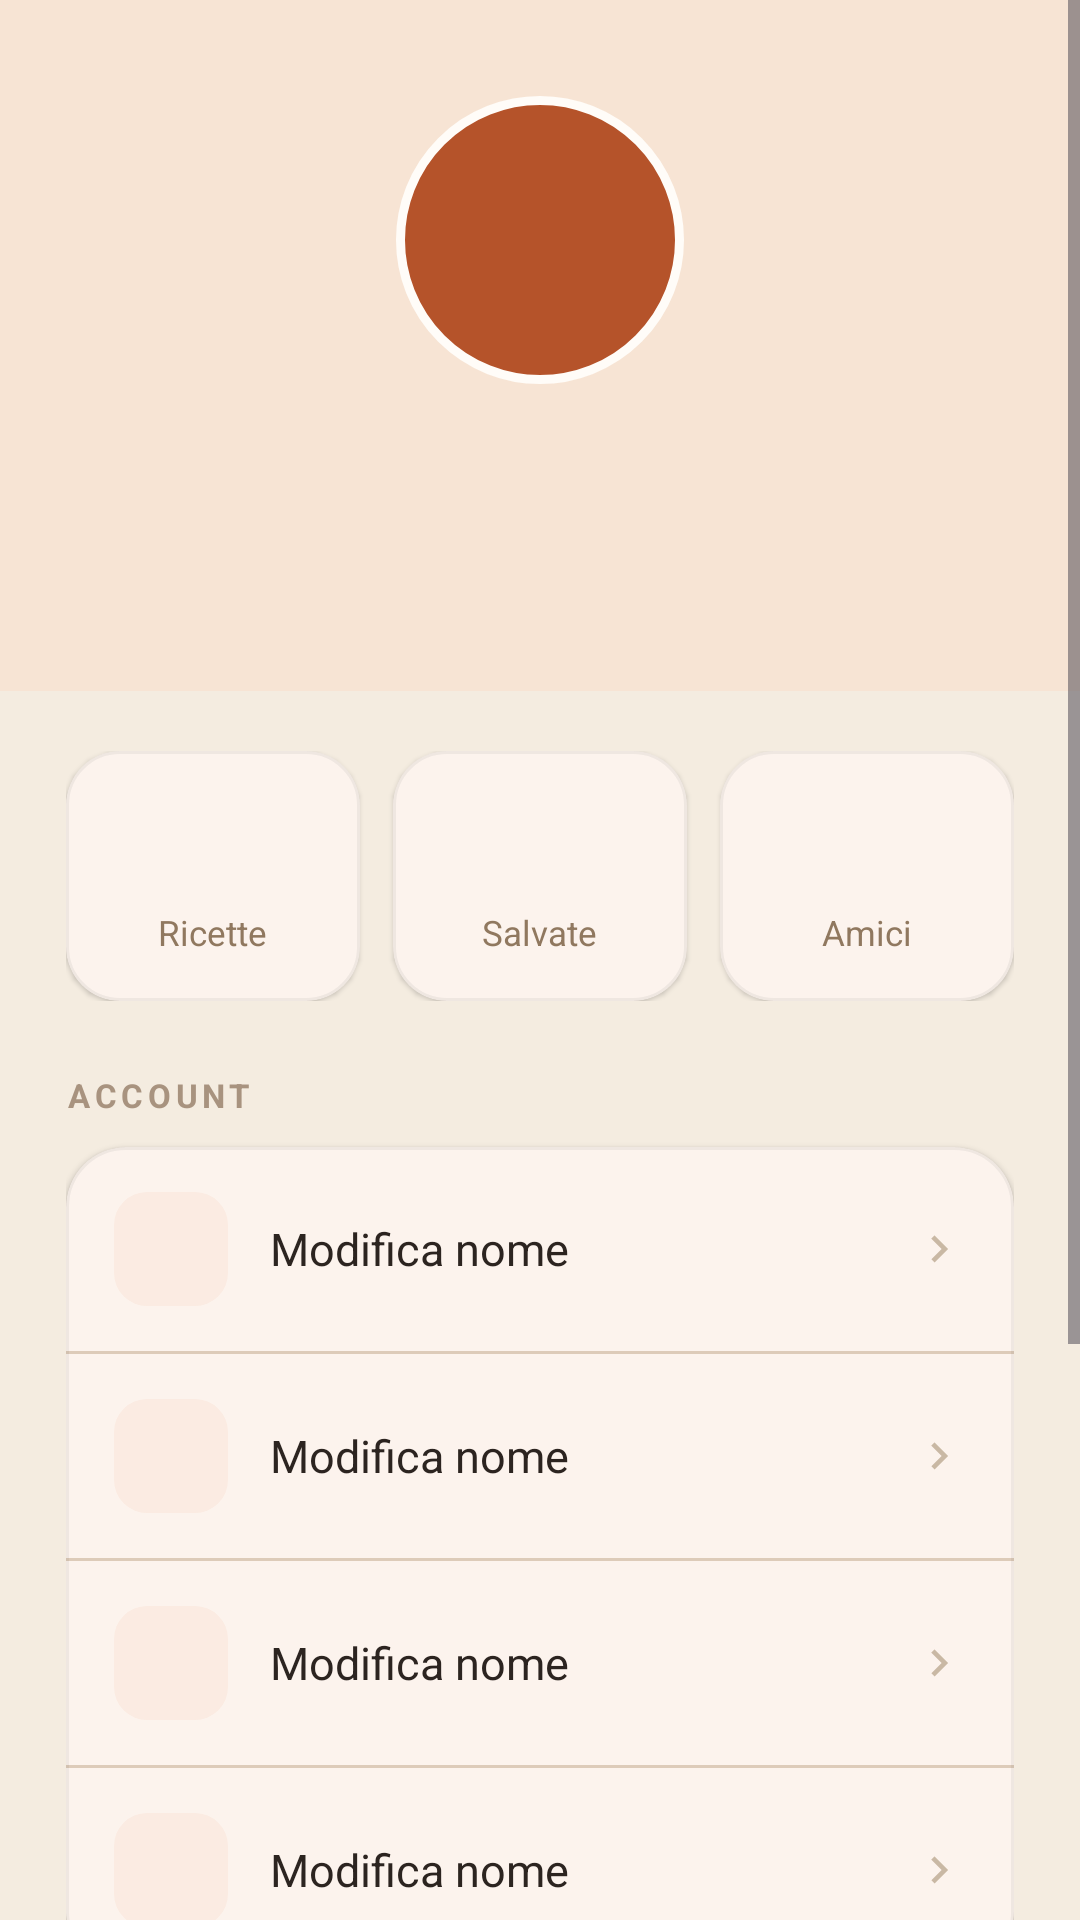

Named icons in this screenshot (1080 × 1920) and their bounding boxes, (x1, y1, x2, y2):
chevron right: (931, 1235, 948, 1262), (931, 1442, 948, 1469), (931, 1649, 948, 1676), (931, 1856, 948, 1883)
